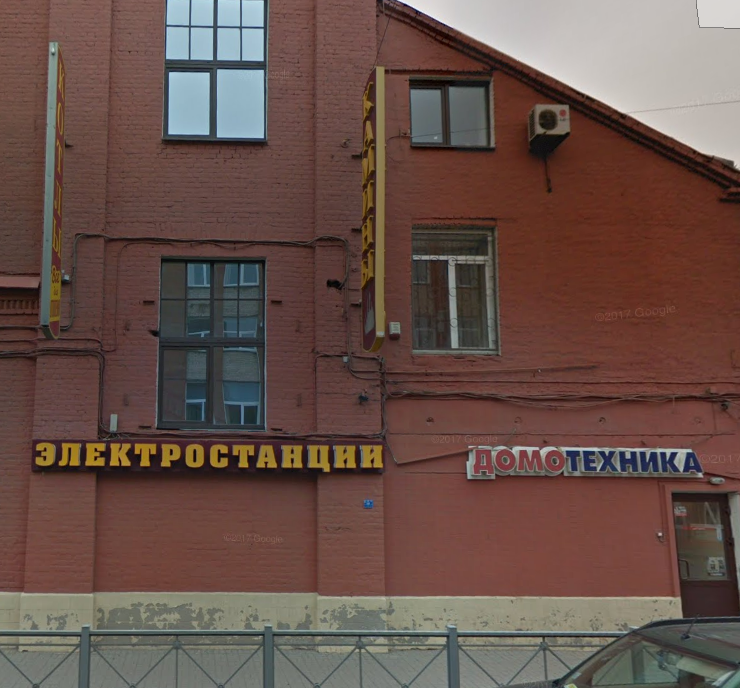cantilever: (33, 36, 87, 343), (340, 59, 388, 356)
door: (672, 496, 740, 619)
signboard: (29, 431, 392, 488), (465, 439, 711, 482)
window: (156, 255, 264, 428), (168, 1, 262, 134), (409, 224, 494, 353), (404, 68, 491, 146)
